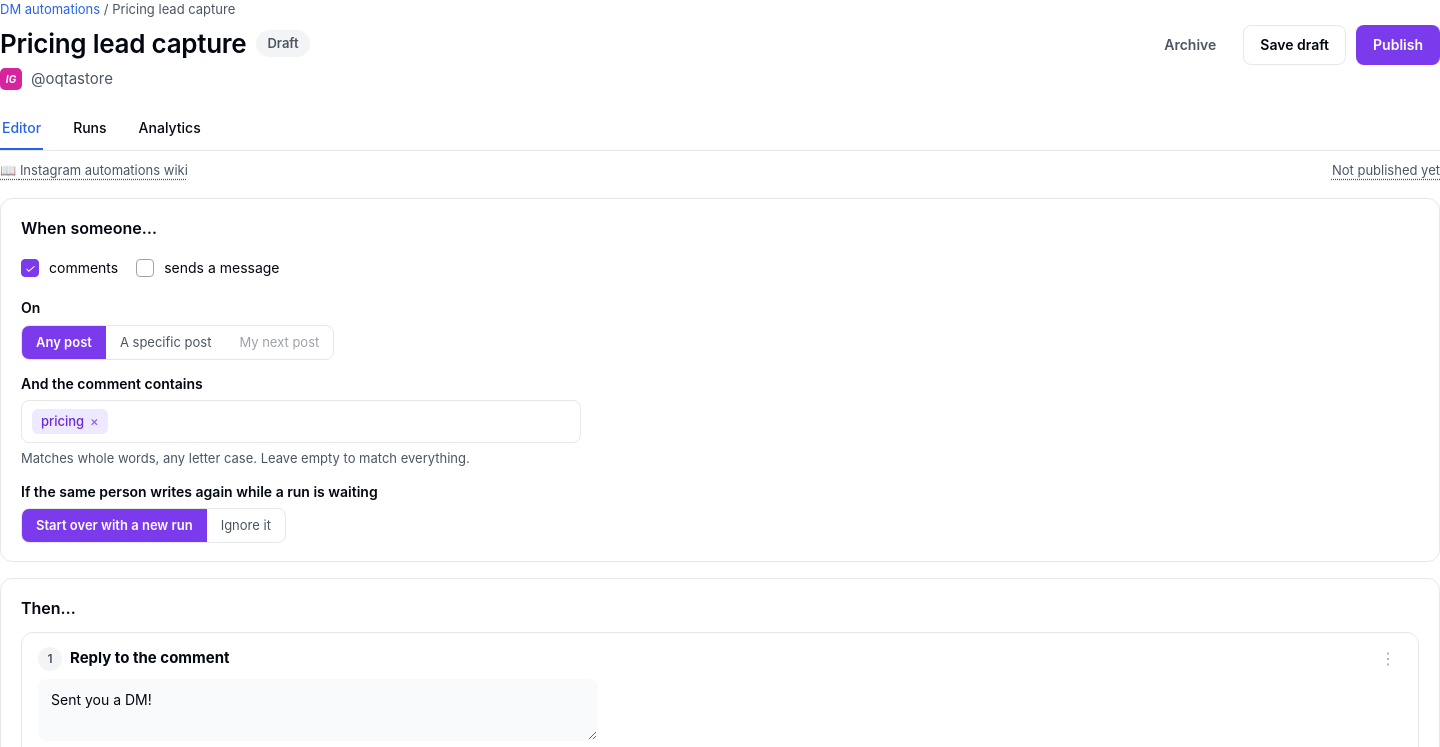
Test case: editor page › lists issues no card renders in a callout above the cards
Expected: the text "Not published yet" is shown, [1332,161,1439,180]
Click the button "Publish": (1398, 45) [1356,25,1439,65]
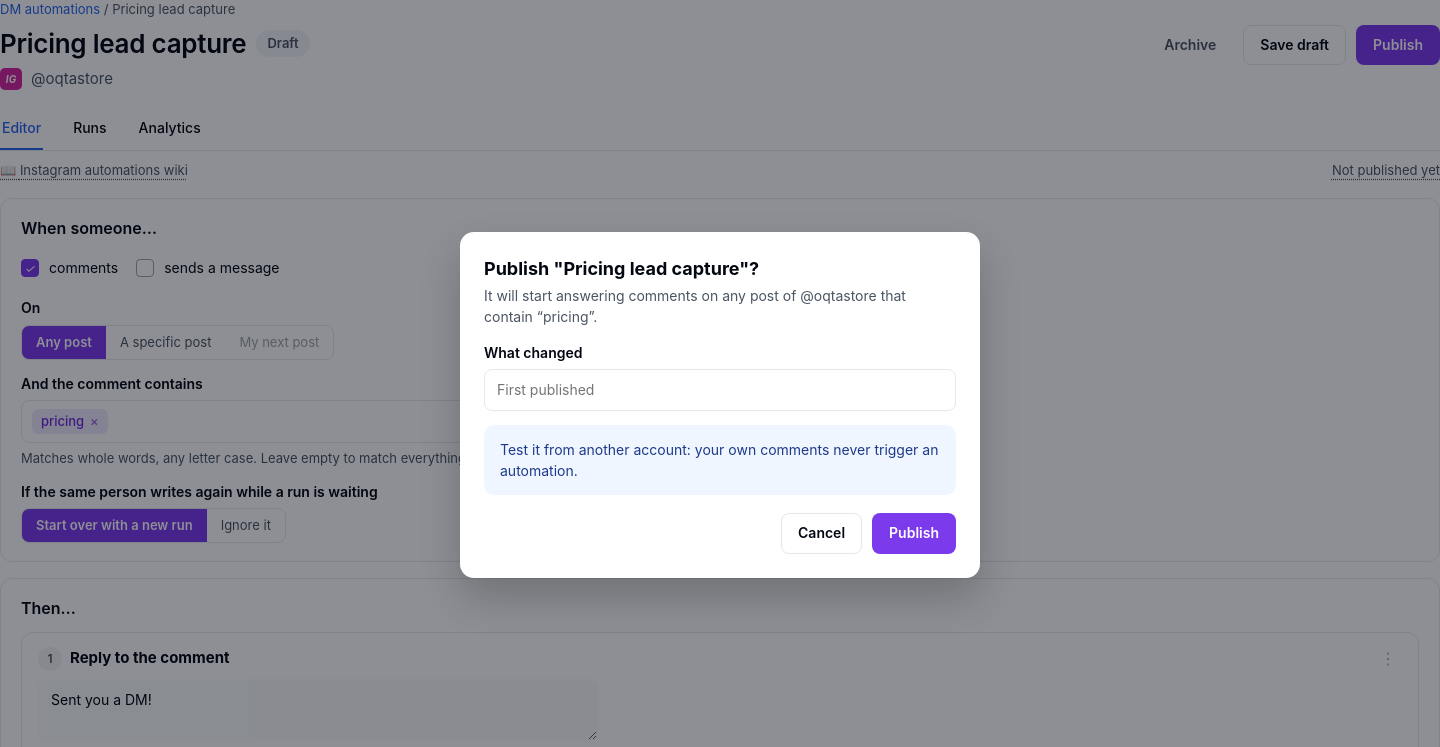
Click the button "Publish": (914, 534) [872,514,956,554]
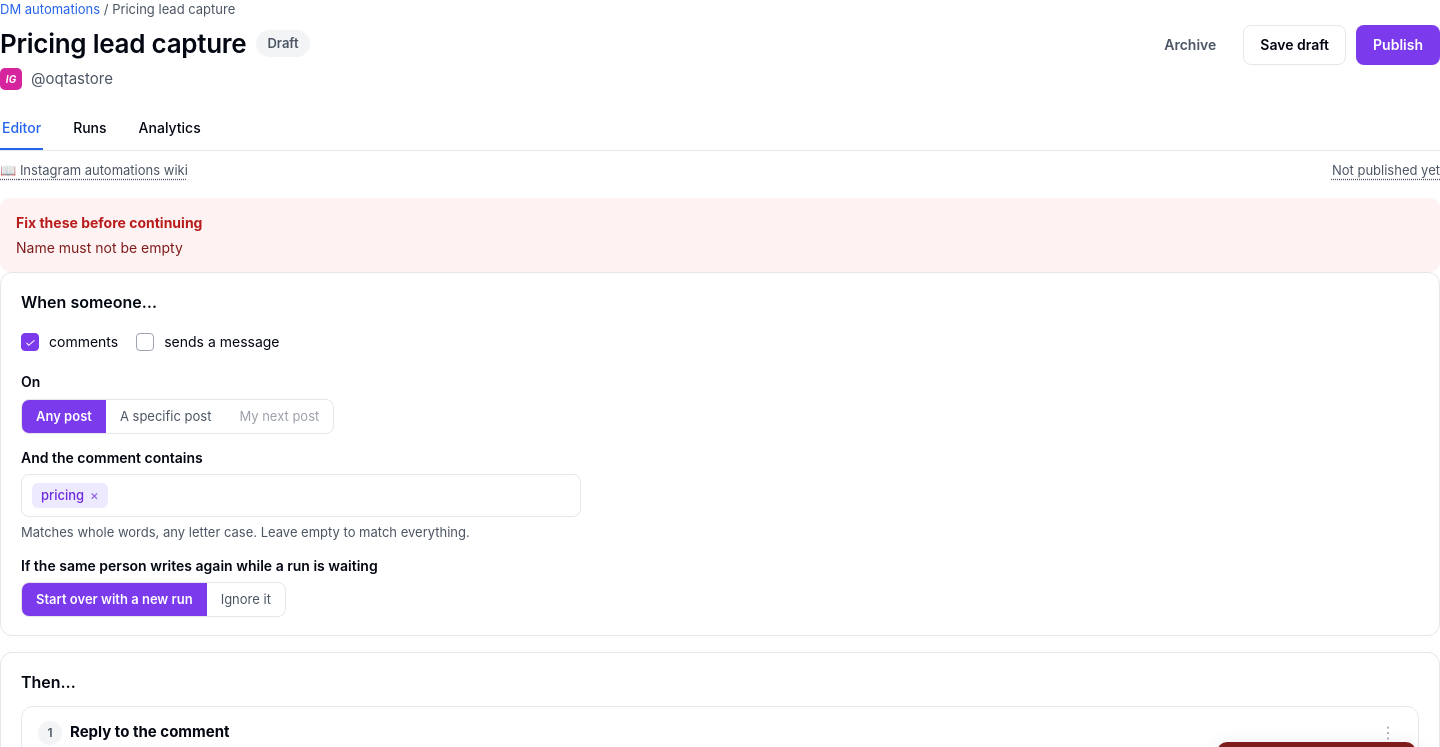
Now the text "Name must not be empty" is shown, box [16,239,183,256]
